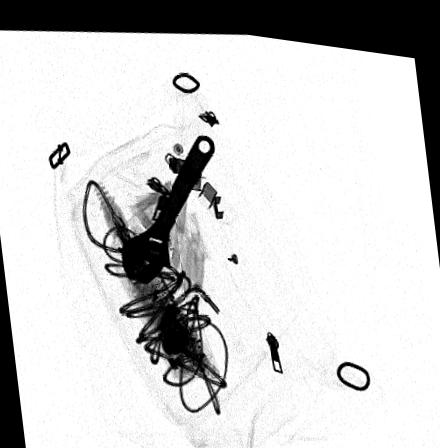Wrench: (120, 127, 215, 281)
